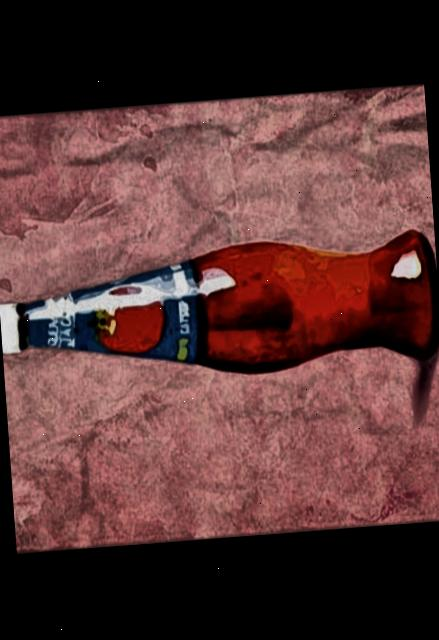La Botella: (0, 82, 439, 554)
